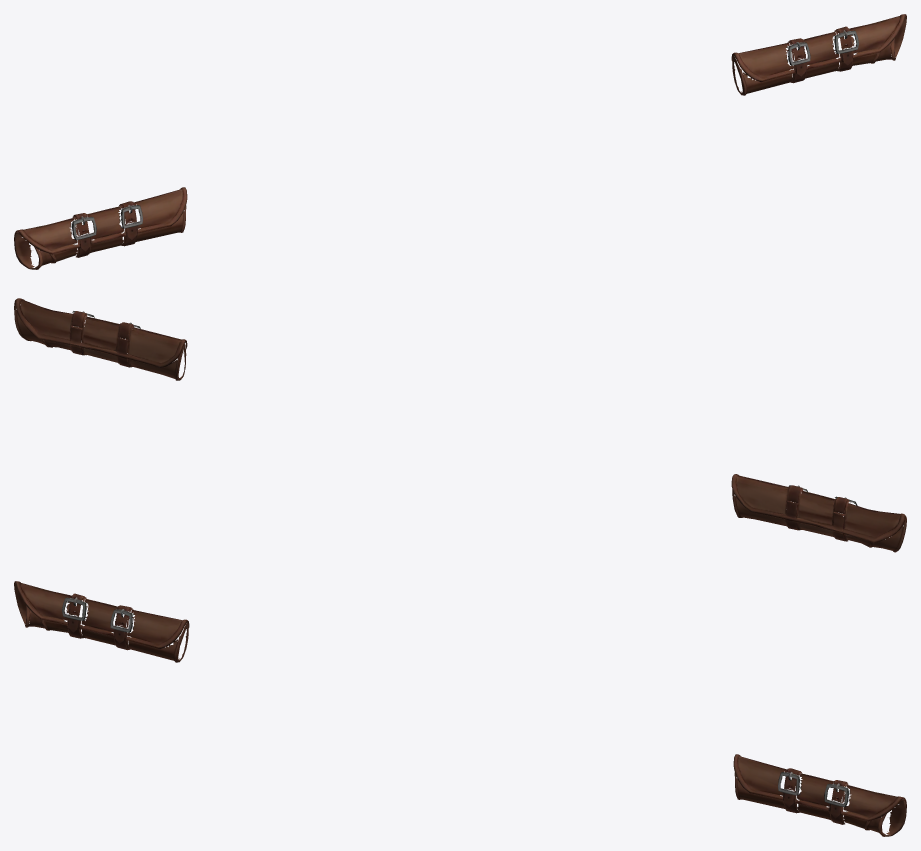
The model's file is assassin_f_bracers.glb.
3 renders of one model, top to bottom at view 1: azimuth 30°, elevation 25°; view 2: azimuth 150°, elevation 25°; view 3: azimuth 330°, elevation 25°, orthographic.
Visible parts, largest first — view 1: lo; view 2: lo; view 3: lo.
Part boxes in pixels (x1,y1,x2,y2): lo: (14, 14, 906, 269); lo: (14, 298, 906, 552); lo: (14, 581, 906, 836).
Bounding box in the file's own units: 1.4 × 0.0651 × 0.0332.
1 material, 1 textured.
